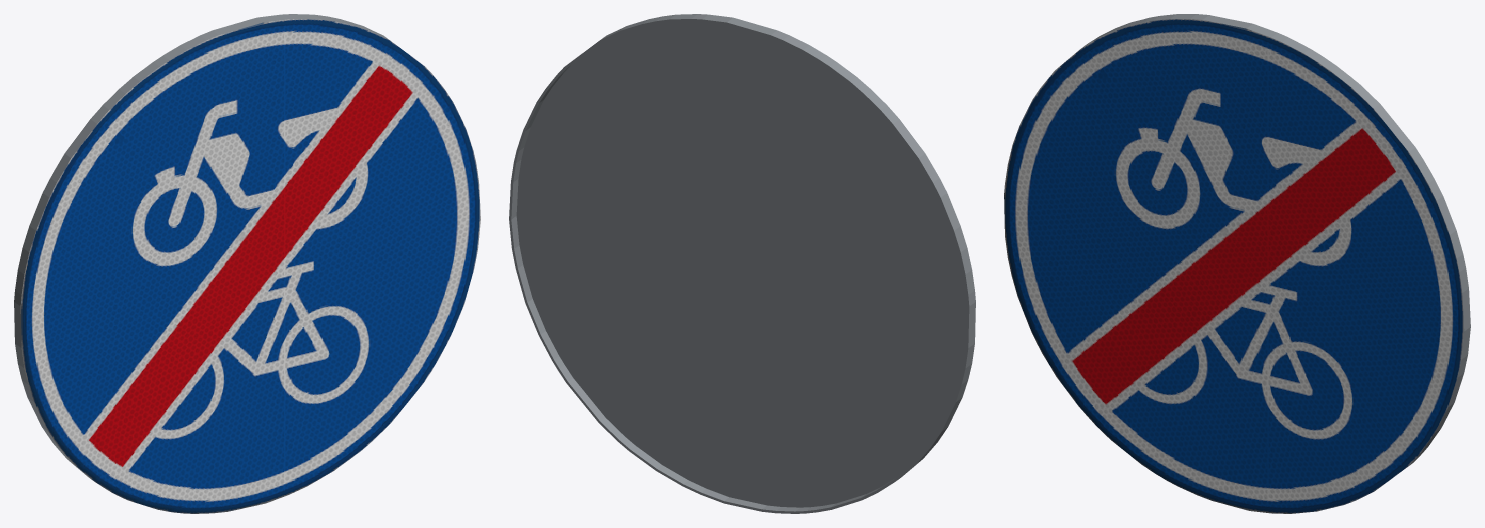
3 renders of one model, left to right at view 1: azimuth 30°, elevation 25°; view 2: azimuth 150°, elevation 25°; view 3: azimuth 330°, elevation 25°, orthographic.
Visible parts, largest first — view 1: cat_7c960c7ab2a67aca; view 2: cat_7c960c7ab2a67aca; view 3: cat_7c960c7ab2a67aca.
Part boxes in pixels (x1,y1,x2,y2): cat_7c960c7ab2a67aca: [14, 14, 480, 513]; cat_7c960c7ab2a67aca: [509, 14, 975, 513]; cat_7c960c7ab2a67aca: [1004, 14, 1470, 513].
Size of the model in its own units: 0.6 by 0.015 by 0.6.
Materials: 2 (1 with a texture image).
